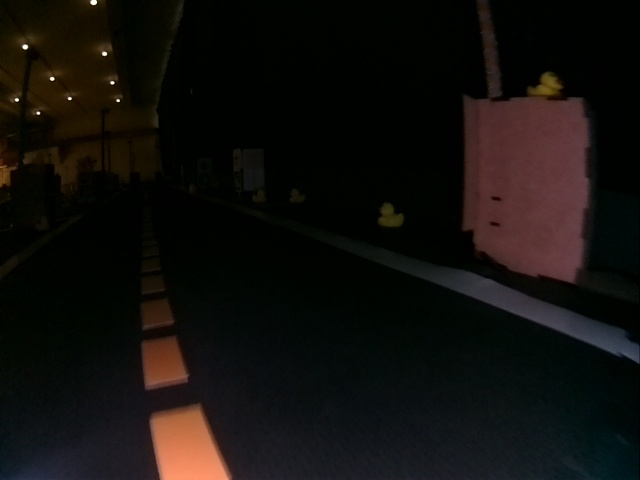Duckie: (528, 72, 563, 95), (377, 202, 403, 227), (252, 190, 267, 202), (292, 189, 305, 202)
